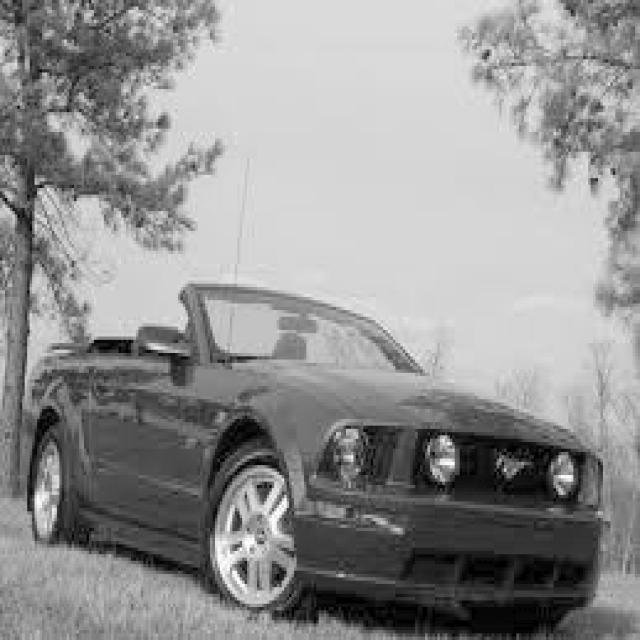car: (20, 274, 608, 627)
